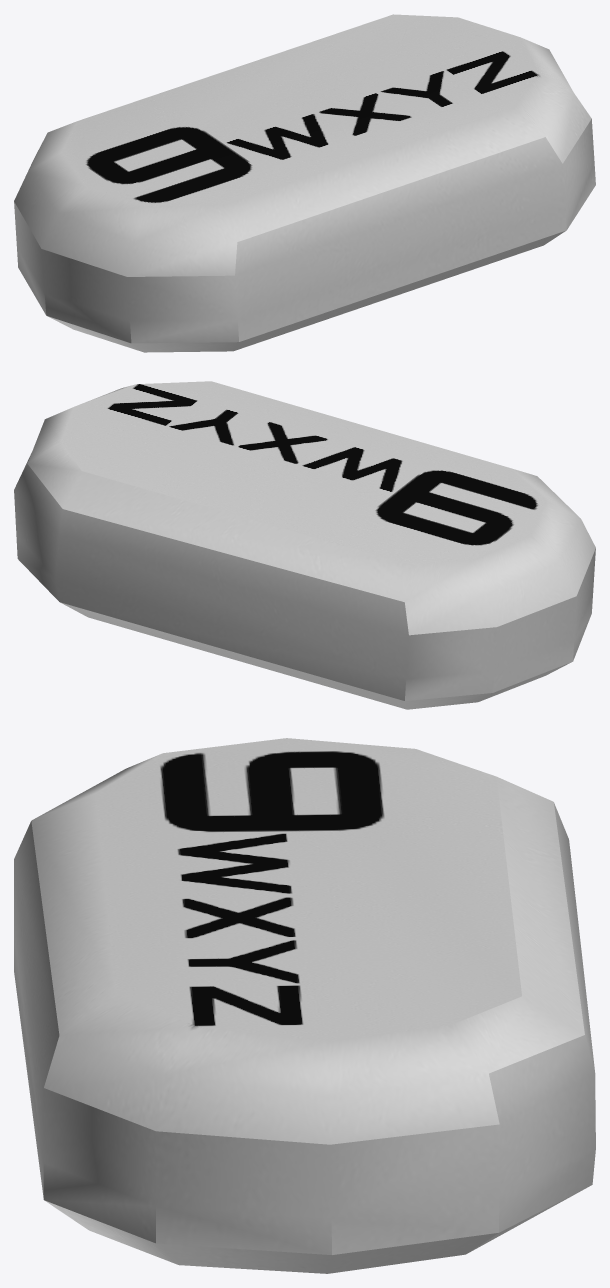
The model's file is wxyz9_button.glb.
3 renders of one model, top to bottom at view 1: azimuth 30°, elevation 25°; view 2: azimuth 150°, elevation 25°; view 3: azimuth 270°, elevation 25°, orthographic. The views are drawn at different scales.
Visible parts, largest first — view 1: wxyz9_button; view 2: wxyz9_button; view 3: wxyz9_button.
Part boxes in pixels (x1,y1,x2,y2): wxyz9_button: [14, 14, 595, 352]; wxyz9_button: [14, 381, 595, 709]; wxyz9_button: [14, 738, 595, 1273].
Size of the model in its own units: 0.00276 by 0.000842 by 0.00163.
Materials: 1 (1 with a texture image).
